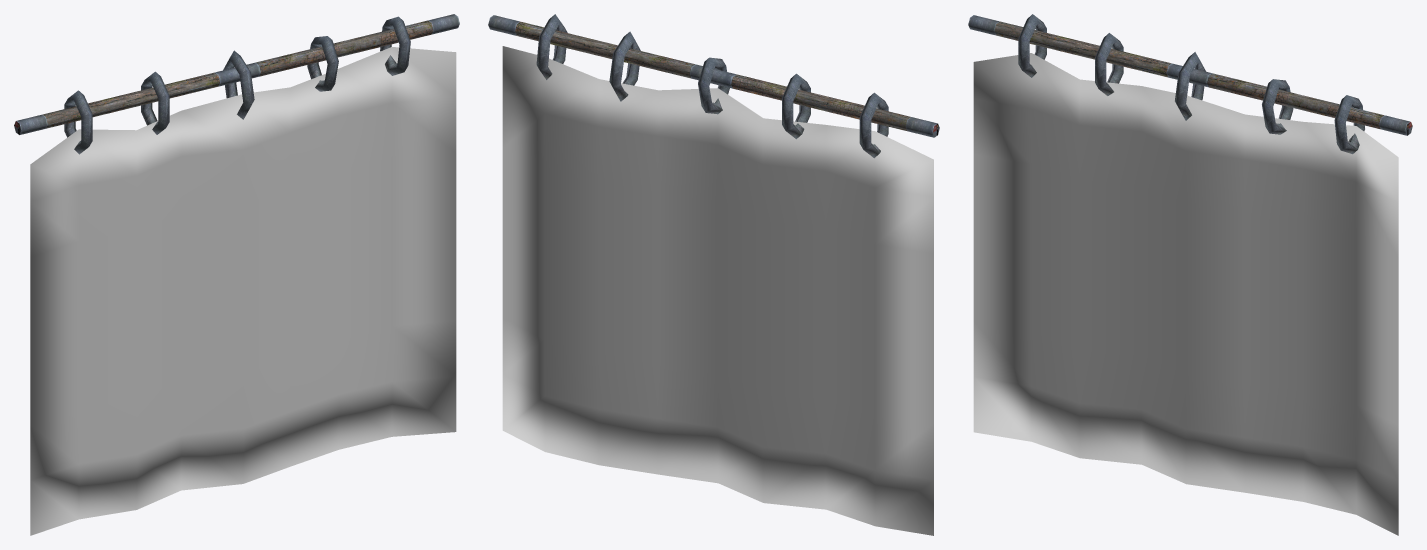
File: Tapestry_1.FBX
3 views of the same model, side by side, from view 1: azimuth 30°, elevation 25°; view 2: azimuth 150°, elevation 25°; view 3: azimuth 330°, elevation 25° (orthographic).
Parts seen in each view (by area): view 1: Plane04, Cylinder02; view 2: Plane04, Cylinder02; view 3: Plane04, Cylinder02.
Boxes of the visible parts, left/top/right/bottom form: Plane04: left=30, top=47, right=456, bottom=535; Cylinder02: left=14, top=14, right=459, bottom=154; Plane04: left=502, top=46, right=933, bottom=535; Cylinder02: left=488, top=14, right=939, bottom=158; Plane04: left=973, top=53, right=1398, bottom=535; Cylinder02: left=968, top=14, right=1412, bottom=154.
Size of the model in its own units: 412 by 385 by 43.72.
